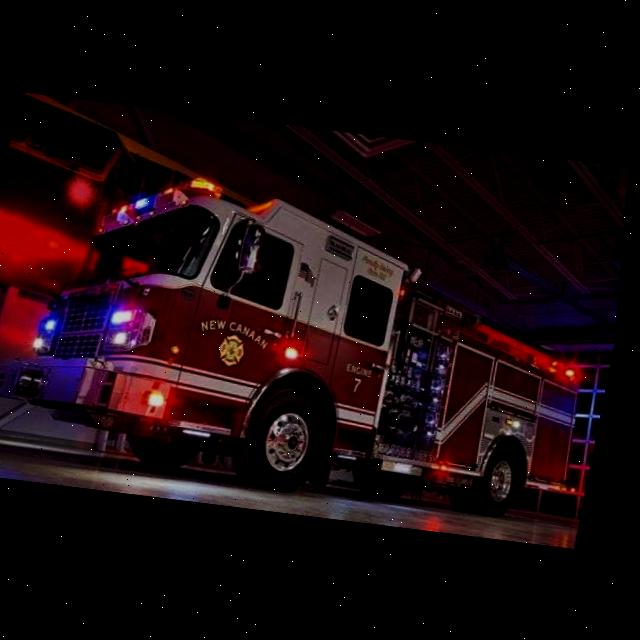emergency: (0, 154, 626, 526)
